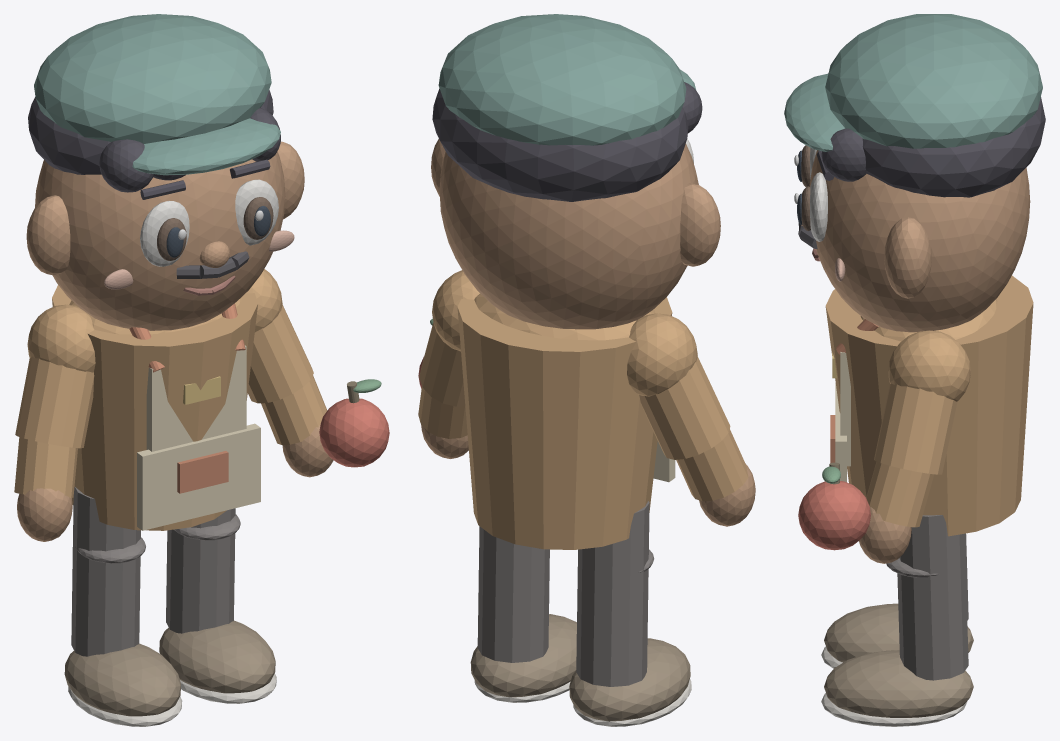
Rendered from 01_Market_Farid.glb.
3 views of the same model, side by side, from view 1: azimuth 30°, elevation 25°; view 2: azimuth 150°, elevation 25°; view 3: azimuth 270°, elevation 25° (orthographic). The views are drawn at different scales.
Parts seen in each view (by area): view 1: 01_Market_Farid_cap_crown_049, 01_Market_Farid_head_019, 01_Market_Farid_torso_008, 01_Market_Farid_pant_leg_002, 01_Market_Farid_apron_skirt_045, 01_Market_Farid_pant_leg_006, 01_Market_Farid_shoe_000, 01_Market_Farid_shoe_004, 01_Market_Farid_upper_arm_012, 01_Market_Farid_cap_bill_050, 01_Market_Farid_upper_arm_016, 01_Market_Farid_apron_bib_044 (+23 smaller); view 2: 01_Market_Farid_torso_008, 01_Market_Farid_head_019, 01_Market_Farid_cap_crown_049, 01_Market_Farid_hair_main_039, 01_Market_Farid_pant_leg_002, 01_Market_Farid_pant_leg_006, 01_Market_Farid_upper_arm_012, 01_Market_Farid_shoe_000, 01_Market_Farid_shoe_004, 01_Market_Farid_shoulder_011, 01_Market_Farid_forearm_013, 01_Market_Farid_ear_020 (+10 smaller); view 3: 01_Market_Farid_torso_008, 01_Market_Farid_cap_crown_049, 01_Market_Farid_head_019, 01_Market_Farid_pant_leg_006, 01_Market_Farid_hair_main_039, 01_Market_Farid_shoe_004, 01_Market_Farid_upper_arm_016, 01_Market_Farid_shoulder_015, 01_Market_Farid_apple_055, 01_Market_Farid_shoe_000, 01_Market_Farid_forearm_017, 01_Market_Farid_ear_027 (+9 smaller).
Boxes of the visible parts, x1,y1,x2,y2 form: 01_Market_Farid_cap_crown_049: [34, 14, 271, 143]; 01_Market_Farid_head_019: [35, 151, 285, 330]; 01_Market_Farid_torso_008: [52, 285, 257, 530]; 01_Market_Farid_pant_leg_002: [71, 487, 140, 656]; 01_Market_Farid_apron_skirt_045: [137, 423, 260, 530]; 01_Market_Farid_pant_leg_006: [166, 508, 235, 633]; 01_Market_Farid_shoe_000: [64, 643, 180, 716]; 01_Market_Farid_shoe_004: [159, 620, 275, 693]; 01_Market_Farid_upper_arm_012: [15, 356, 94, 448]; 01_Market_Farid_cap_bill_050: [132, 118, 280, 175]; 01_Market_Farid_upper_arm_016: [247, 304, 313, 403]; 01_Market_Farid_apron_bib_044: [146, 345, 246, 451]; 01_Market_Farid_torso_008: [457, 297, 672, 549]; 01_Market_Farid_head_019: [439, 143, 698, 329]; 01_Market_Farid_cap_crown_049: [438, 14, 686, 145]; 01_Market_Farid_hair_main_039: [432, 88, 688, 201]; 01_Market_Farid_pant_leg_002: [576, 501, 649, 686]; 01_Market_Farid_pant_leg_006: [477, 526, 549, 662]; 01_Market_Farid_upper_arm_012: [639, 357, 730, 459]; 01_Market_Farid_shoe_000: [569, 638, 690, 721]; 01_Market_Farid_shoe_004: [470, 614, 576, 697]; 01_Market_Farid_shoulder_011: [627, 313, 697, 396]; 01_Market_Farid_forearm_013: [676, 429, 748, 501]; 01_Market_Farid_ear_020: [680, 183, 720, 266]; 01_Market_Farid_torso_008: [825, 275, 1033, 536]; 01_Market_Farid_cap_crown_049: [825, 14, 1042, 148]; 01_Market_Farid_head_019: [809, 150, 1030, 332]; 01_Market_Farid_pant_leg_006: [897, 515, 968, 680]; 01_Market_Farid_hair_main_039: [862, 97, 1045, 197]; 01_Market_Farid_shoe_004: [824, 650, 973, 717]; 01_Market_Farid_upper_arm_016: [874, 383, 957, 474]; 01_Market_Farid_shoulder_015: [888, 330, 970, 401]; 01_Market_Farid_apple_055: [798, 481, 870, 550]; 01_Market_Farid_shoe_000: [824, 603, 973, 662]; 01_Market_Farid_forearm_017: [866, 461, 934, 527]; 01_Market_Farid_ear_027: [884, 217, 931, 298].
Bounding box in the file's own units: 1.29 × 2.37 × 0.855.
